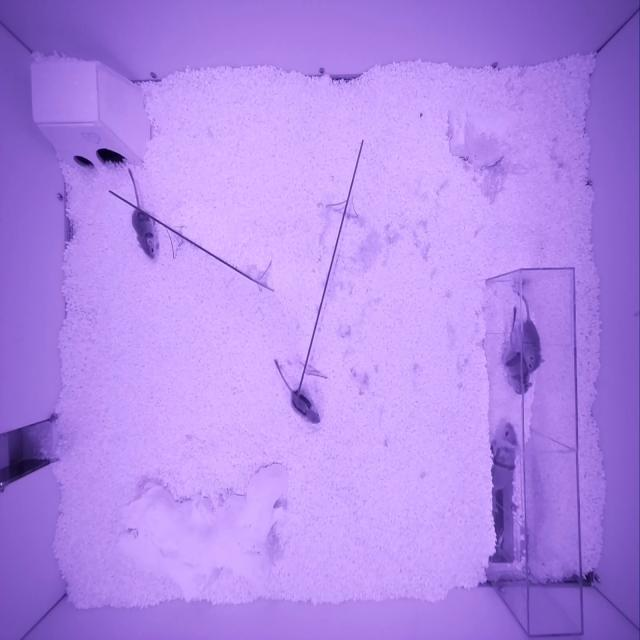adult_front: (491, 422, 518, 489)
pup_fluffy: (518, 320, 545, 374)
pup_h_stripe: (504, 351, 532, 396)
pup_spotted: (132, 207, 160, 261)
pup_v_stripe: (292, 390, 320, 425)
